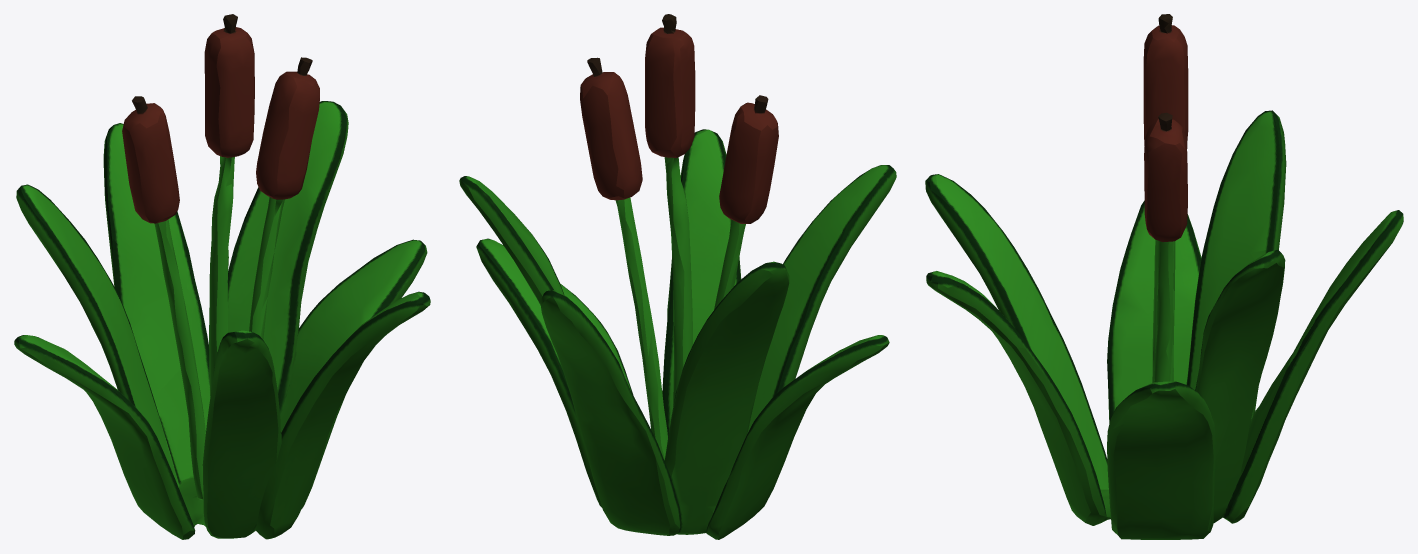
Rendered from ENV_09_REEDS.glb.
3 views of the same model, side by side, from view 1: azimuth 30°, elevation 25°; view 2: azimuth 150°, elevation 25°; view 3: azimuth 270°, elevation 25° (orthographic).
Visible parts, largest first — view 1: world; view 2: world; view 3: world.
Boxes of the visible parts, bbox=[...] form: world: bbox=[14, 14, 430, 539]; world: bbox=[459, 14, 896, 539]; world: bbox=[925, 14, 1403, 539].
Size of the model in its own units: 0.8647 by 1 by 0.8631.
1 material, 1 textured.
